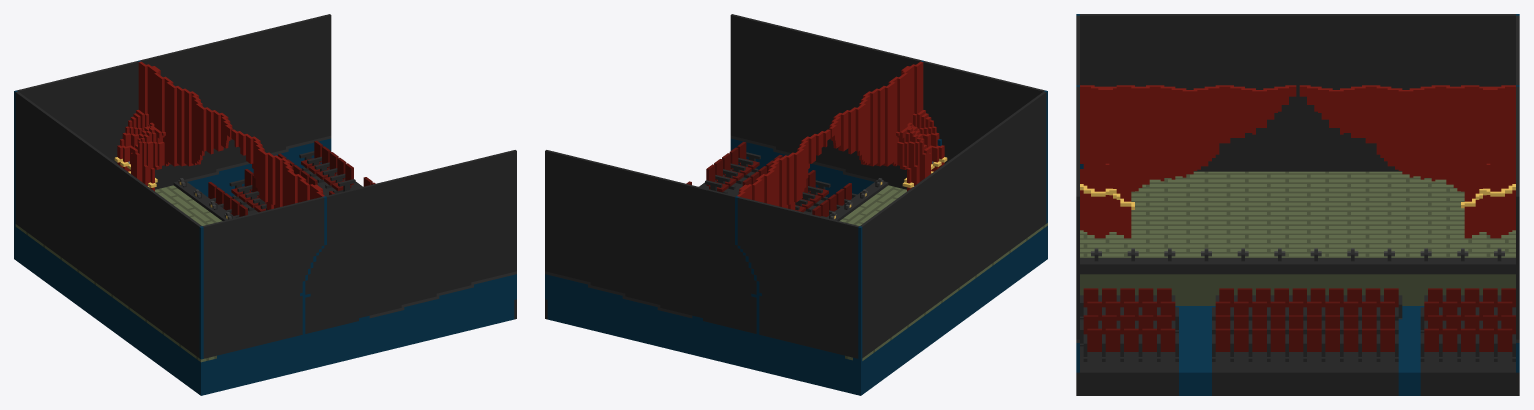
Rendered from Stage.obj.
3 renders of one model, left to right at view 1: azimuth 30°, elevation 25°; view 2: azimuth 150°, elevation 25°; view 3: azimuth 270°, elevation 25°, orthographic. The views are drawn at different scales.
Size of the model in its own units: 11.8 by 6 by 12.1.
Materials: 1 (1 with a texture image).
